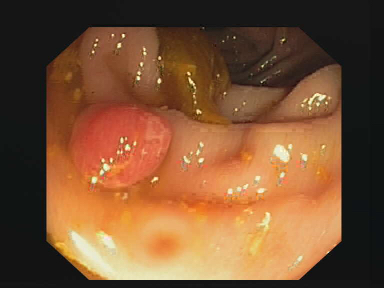polyp: (70, 105, 174, 193)
